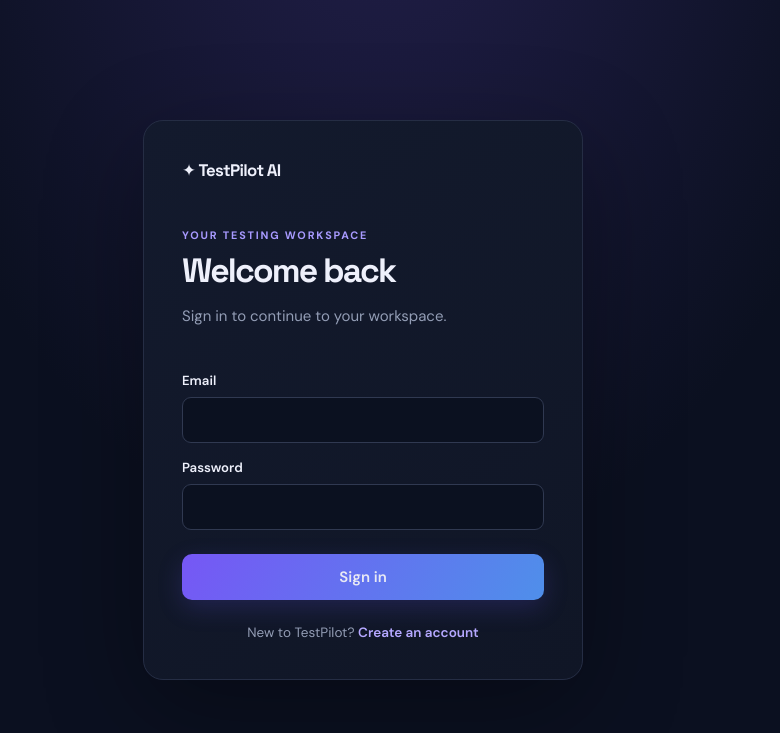
LoginPage › renders server errors accessibly
Type "ada@example.com" into the field labelled "Email" at point(363, 420), box 182,397 -> 544,443
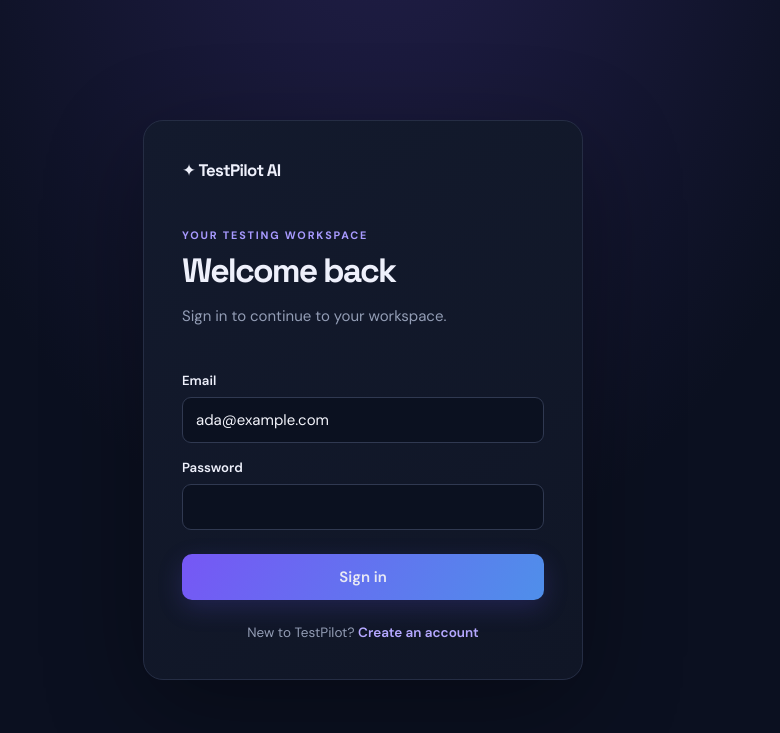
Type "wrong" into the password field labelled "Password" at point(363, 507), box 182,484 -> 544,530
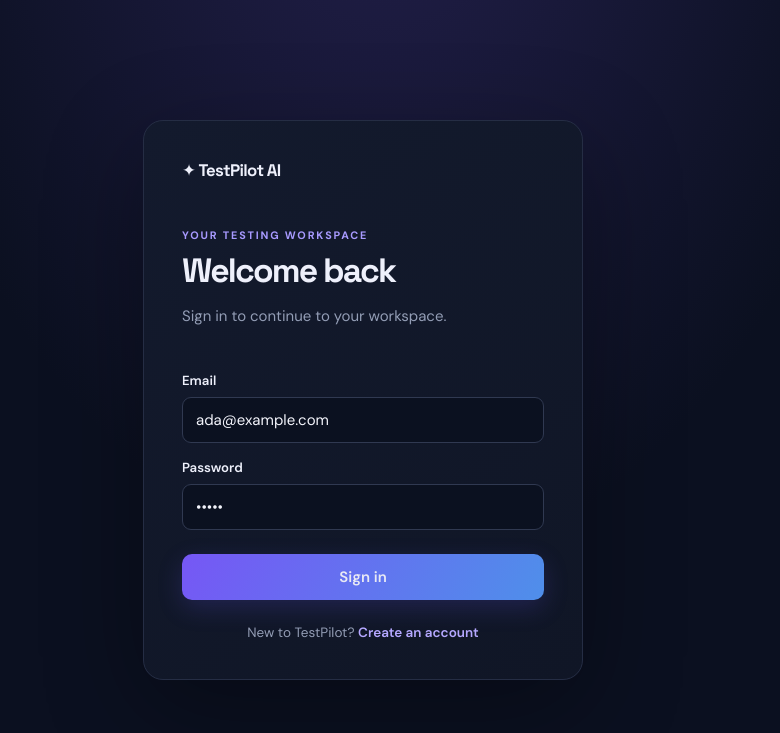
Click the button "Sign in" at point(363, 577), box 182,554 -> 544,600
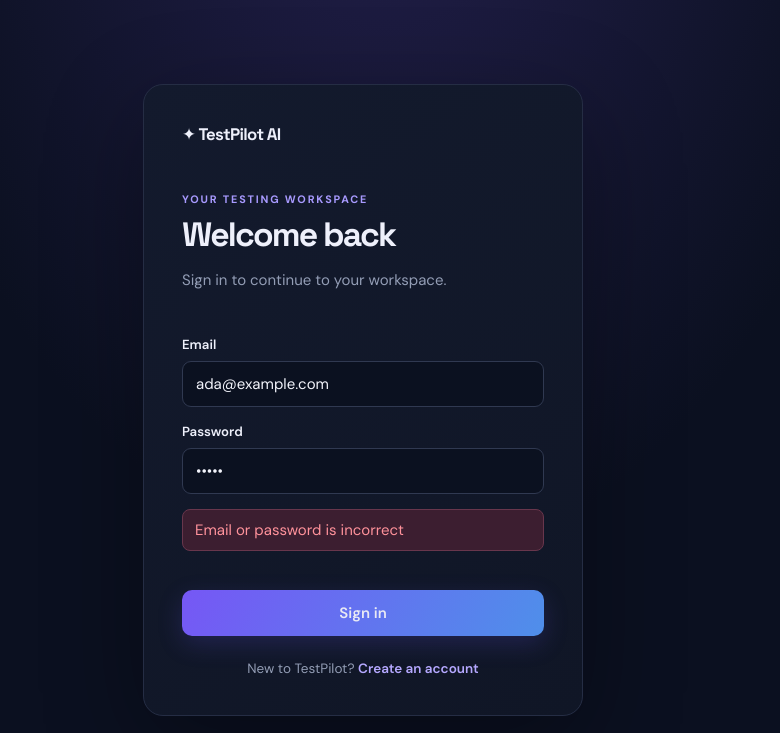
Check: the message reads "Email or password is incorrect", box 195,520 -> 404,540
